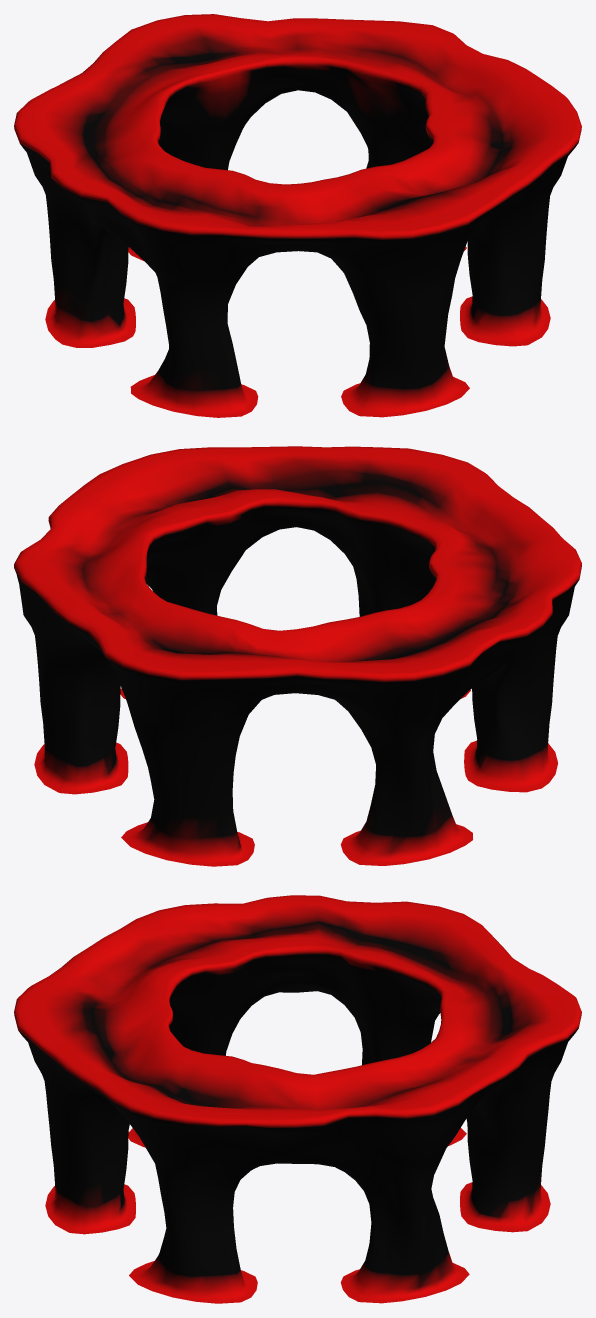
Rendered from GroundObject10A.fbx.
3 views of the same model, one above another, from view 1: azimuth 30°, elevation 25°; view 2: azimuth 150°, elevation 25°; view 3: azimuth 270°, elevation 25° (orthographic). The views are drawn at different scales.
Visible parts, largest first — view 1: GroundObject10A; view 2: GroundObject10A; view 3: GroundObject10A.
Part boxes in pixels (bbox=[...]): GroundObject10A: bbox=[14, 14, 581, 417]; GroundObject10A: bbox=[14, 446, 581, 866]; GroundObject10A: bbox=[14, 895, 581, 1303].
Bounding box in the file's own units: 5.01 × 2.01 × 5.28.
